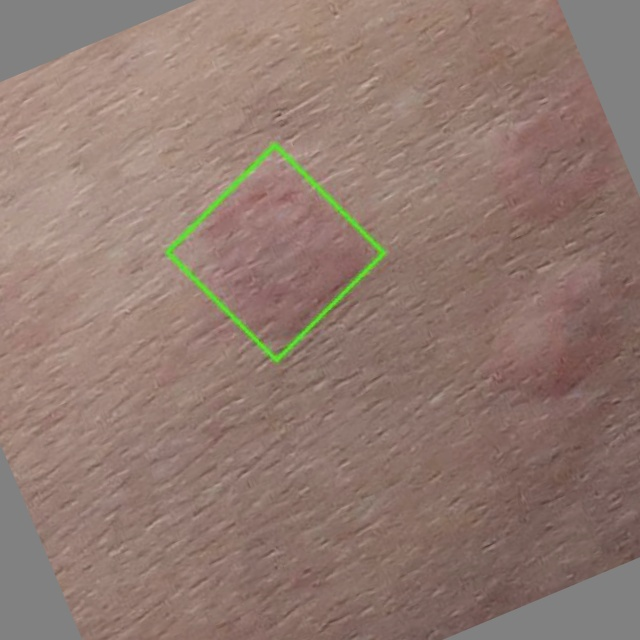Tinea Corporis: (167, 145, 383, 361)
